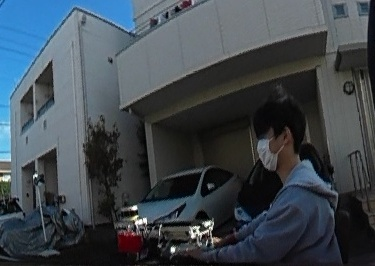person: (235, 95, 339, 266)
